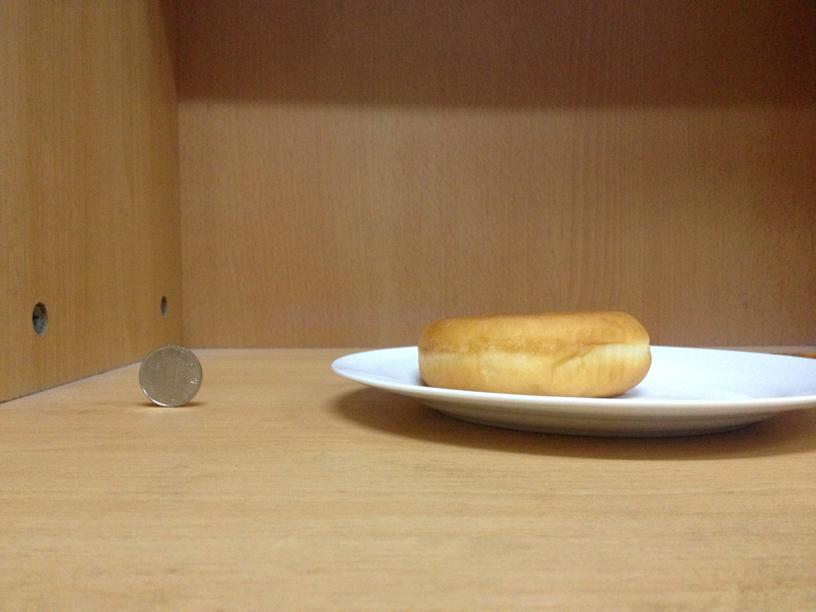coin: (137, 345, 203, 408)
doughnut: (417, 312, 650, 399)
